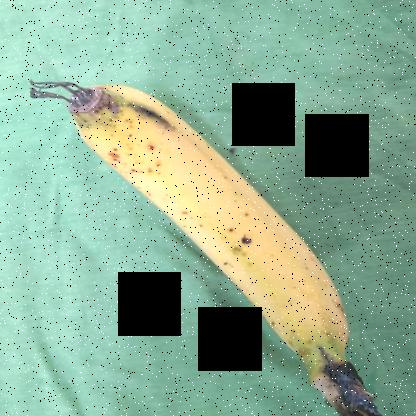ripe: (63, 77, 371, 389)
